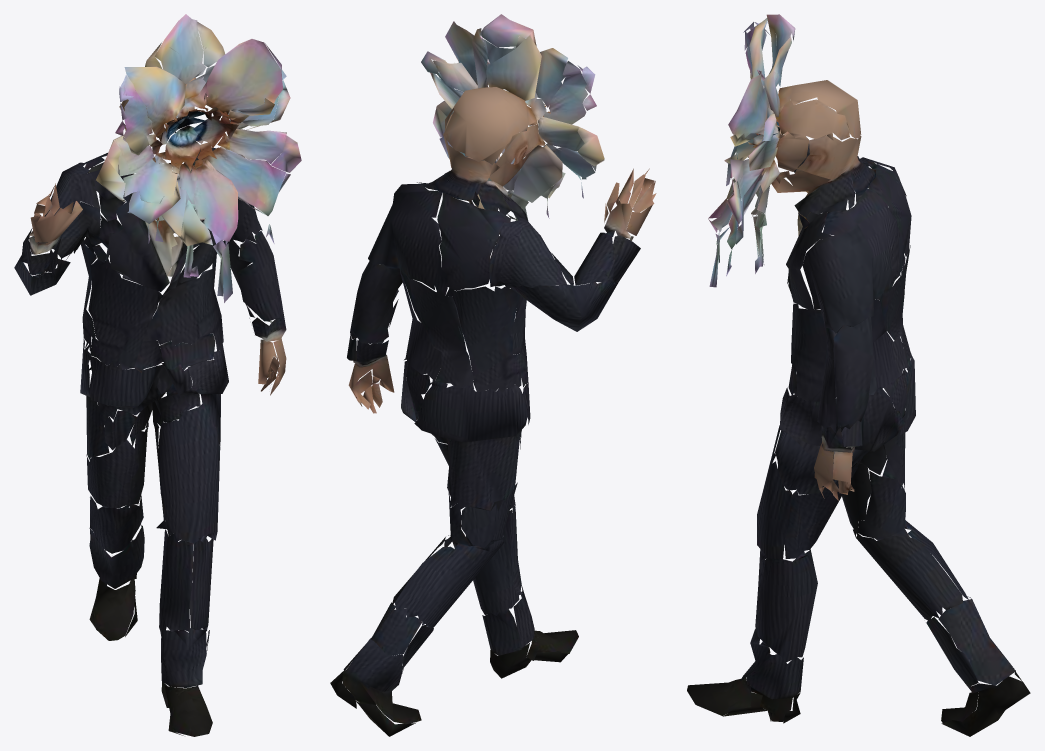
Rendered from crowd_wiseguy.glb.
3 views of the same model, side by side, from view 1: azimuth 30°, elevation 25°; view 2: azimuth 150°, elevation 25°; view 3: azimuth 270°, elevation 25° (orthographic). The views are drawn at different scales.
Visible parts, largest first — view 1: tripo_node_096ba9d0-4f72-4ce4-bbae-e90f7e3d7e71; view 2: tripo_node_096ba9d0-4f72-4ce4-bbae-e90f7e3d7e71; view 3: tripo_node_096ba9d0-4f72-4ce4-bbae-e90f7e3d7e71.
Boxes of the visible parts, x1,y1,x2,y2 form: tripo_node_096ba9d0-4f72-4ce4-bbae-e90f7e3d7e71: [14, 14, 301, 736]; tripo_node_096ba9d0-4f72-4ce4-bbae-e90f7e3d7e71: [330, 14, 656, 736]; tripo_node_096ba9d0-4f72-4ce4-bbae-e90f7e3d7e71: [687, 14, 1030, 736].
Bounding box in the file's own units: 0.8142 × 1.88 × 0.8323.
Materials: 1 (1 with a texture image).
